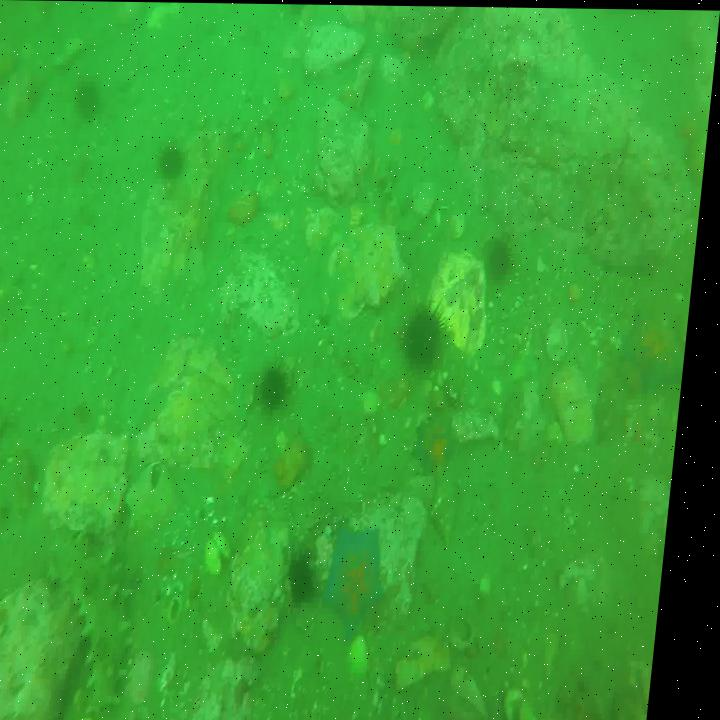echinus: (411, 303, 450, 367), (299, 549, 330, 597), (266, 363, 297, 409), (76, 80, 107, 124), (163, 139, 194, 182), (491, 237, 519, 280)
holothurian: (48, 532, 155, 713), (335, 515, 402, 631), (631, 304, 695, 395), (425, 419, 466, 468)
scallop: (210, 526, 245, 578)
